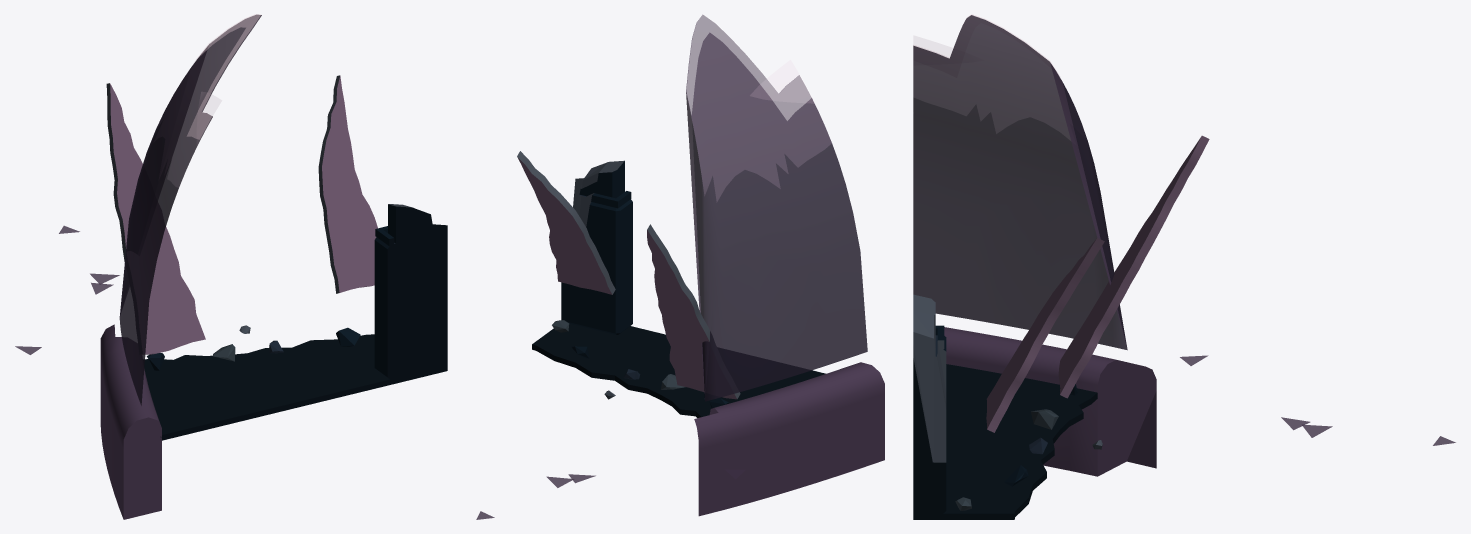
File: purple_dome_tl_wreck.glb
3 renders of one model, left to right at view 1: azimuth 30°, elevation 25°; view 2: azimuth 150°, elevation 25°; view 3: azimuth 270°, elevation 25°, orthographic. The views are drawn at different scales.
Parts seen in each view (by area): view 1: purple_dome_tl_wreck; view 2: purple_dome_tl_wreck; view 3: purple_dome_tl_wreck.
Part boxes in pixels (x1,y1,x2,y2): purple_dome_tl_wreck: (15, 14, 447, 519); purple_dome_tl_wreck: (476, 14, 884, 519); purple_dome_tl_wreck: (913, 14, 1455, 519).
Size of the model in its own units: 19.39 by 25.53 by 25.29.
